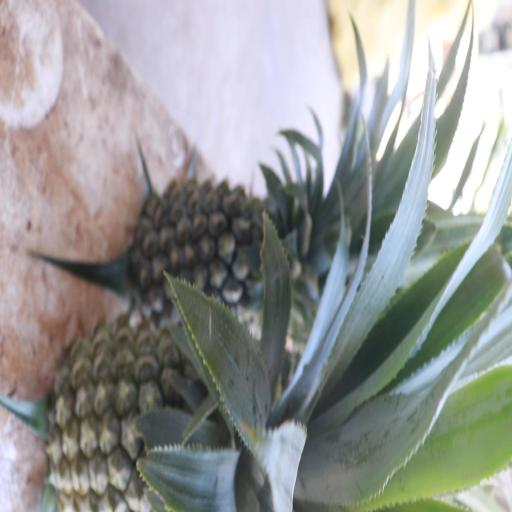------------------------------: (47, 319, 295, 512)
